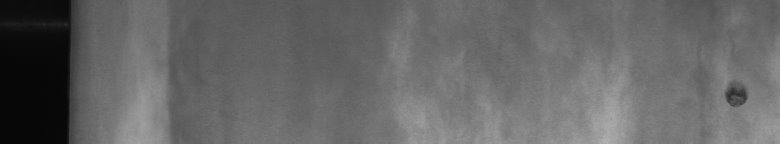fi: (717, 75, 755, 113)
